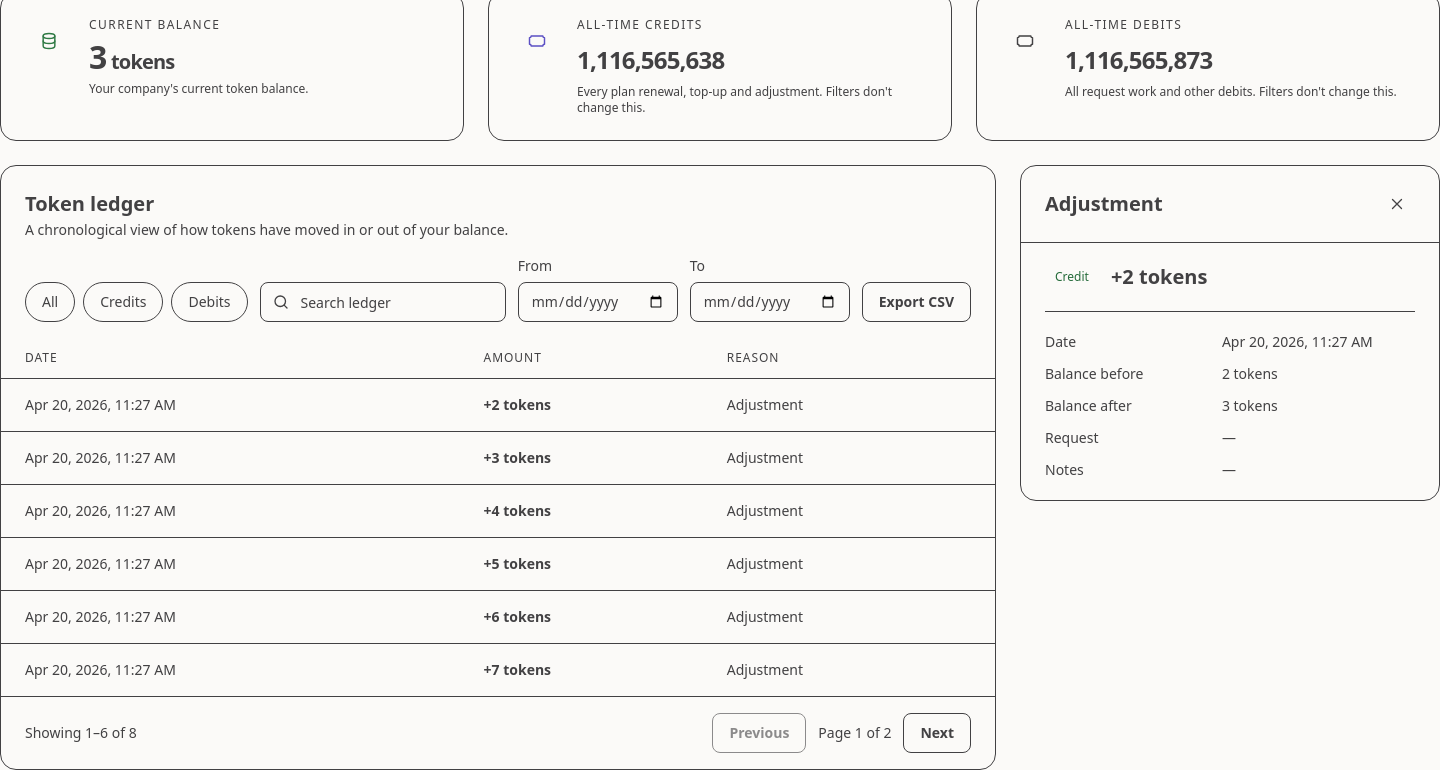
Test: Customer tokens › asks the server for each page and resets to page one when filtering
This screenshot has width=1440, height=770.
(page scrolled)
Expected: the text "Showing 1–6 of 8" is shown, [25,723,137,743]
Click the button "Next" at (937, 733), box [904,713,971,753]
(page scrolled)
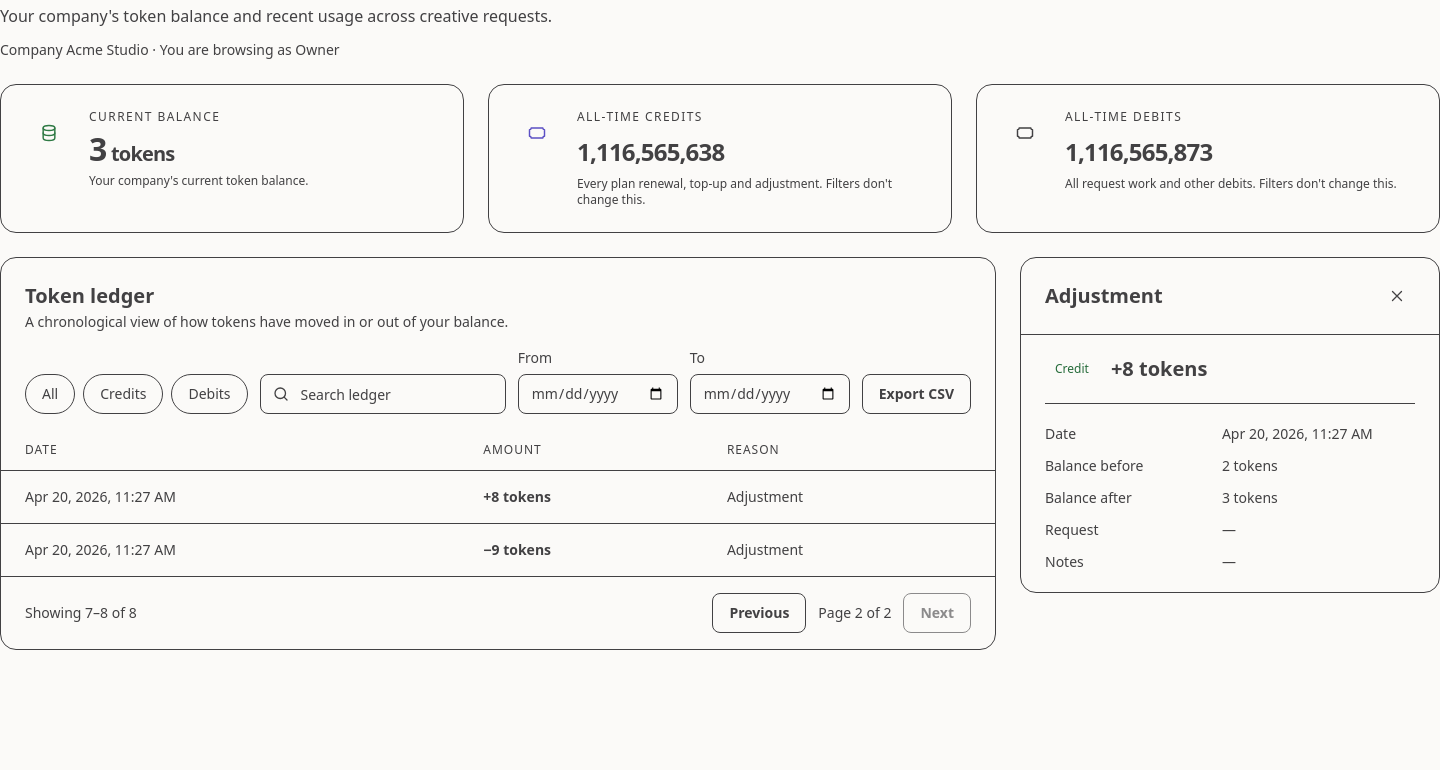
Result: the text "Showing 7–8 of 8" is shown at [25,603,137,623]
Click the button "Debits" at (209, 394), box [171,374,248,414]
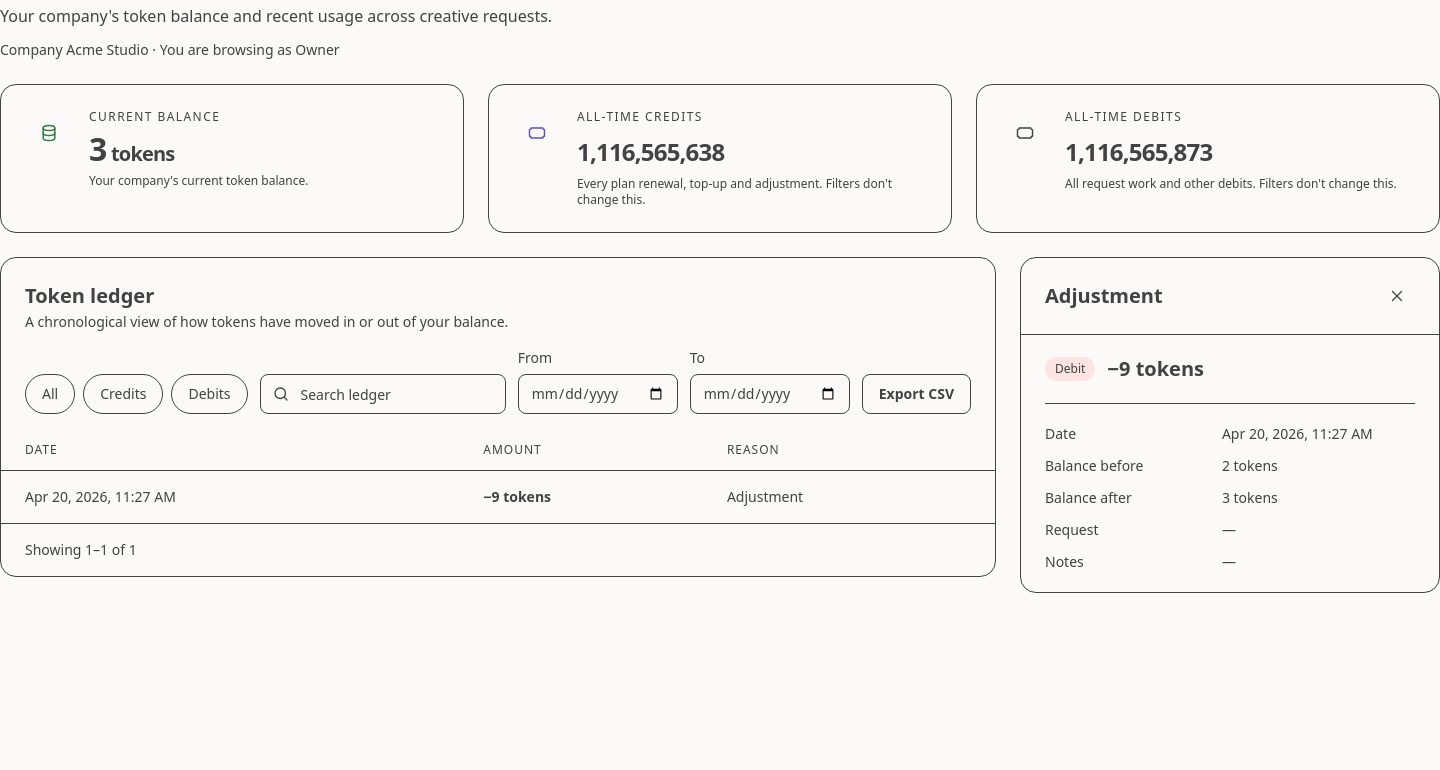
Result: the text "Showing 1–1 of 1" is shown at [25,540,137,560]
